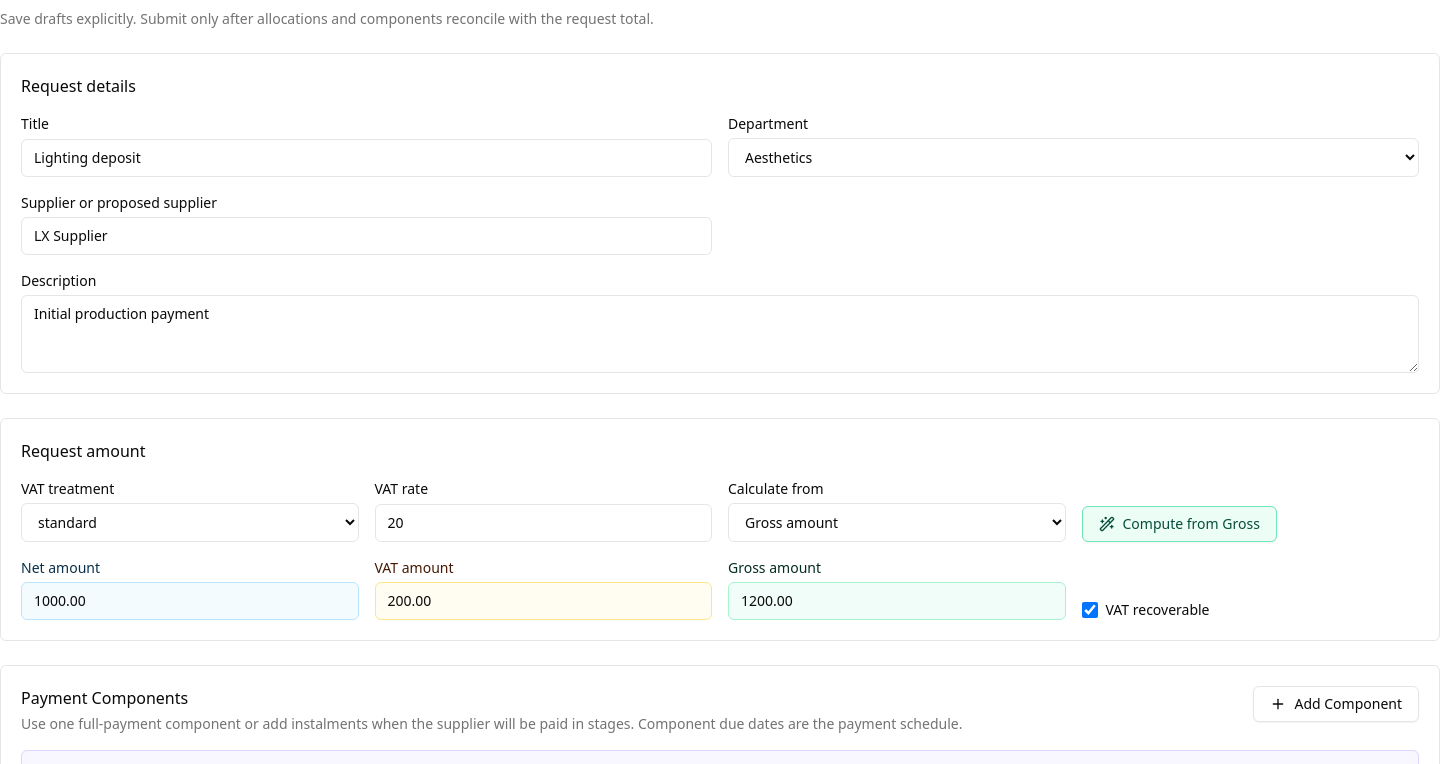
Test case: Stage 5 spending request panels › adds a third component with an instalment name
What coordinates should you click on to do the following:
click the button "Add Component"
I would click on:
 (1336, 704)
Its box is x1=1253 y1=686 x2=1419 y2=722.
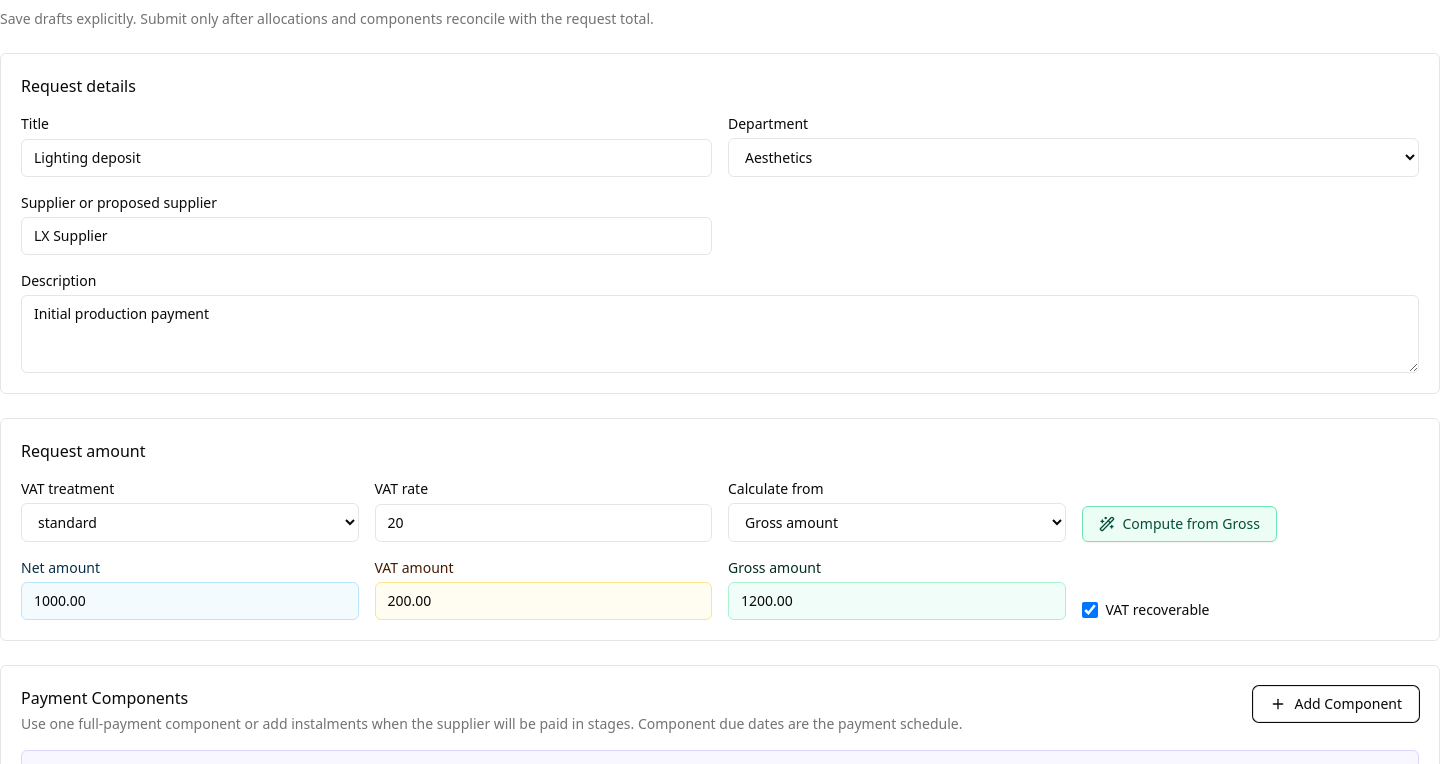
What coordinates should you click on to do the following:
click the button "Add Component"
I would click on:
 (1336, 704)
Its box is x1=1253 y1=686 x2=1419 y2=722.
(page scrolled)
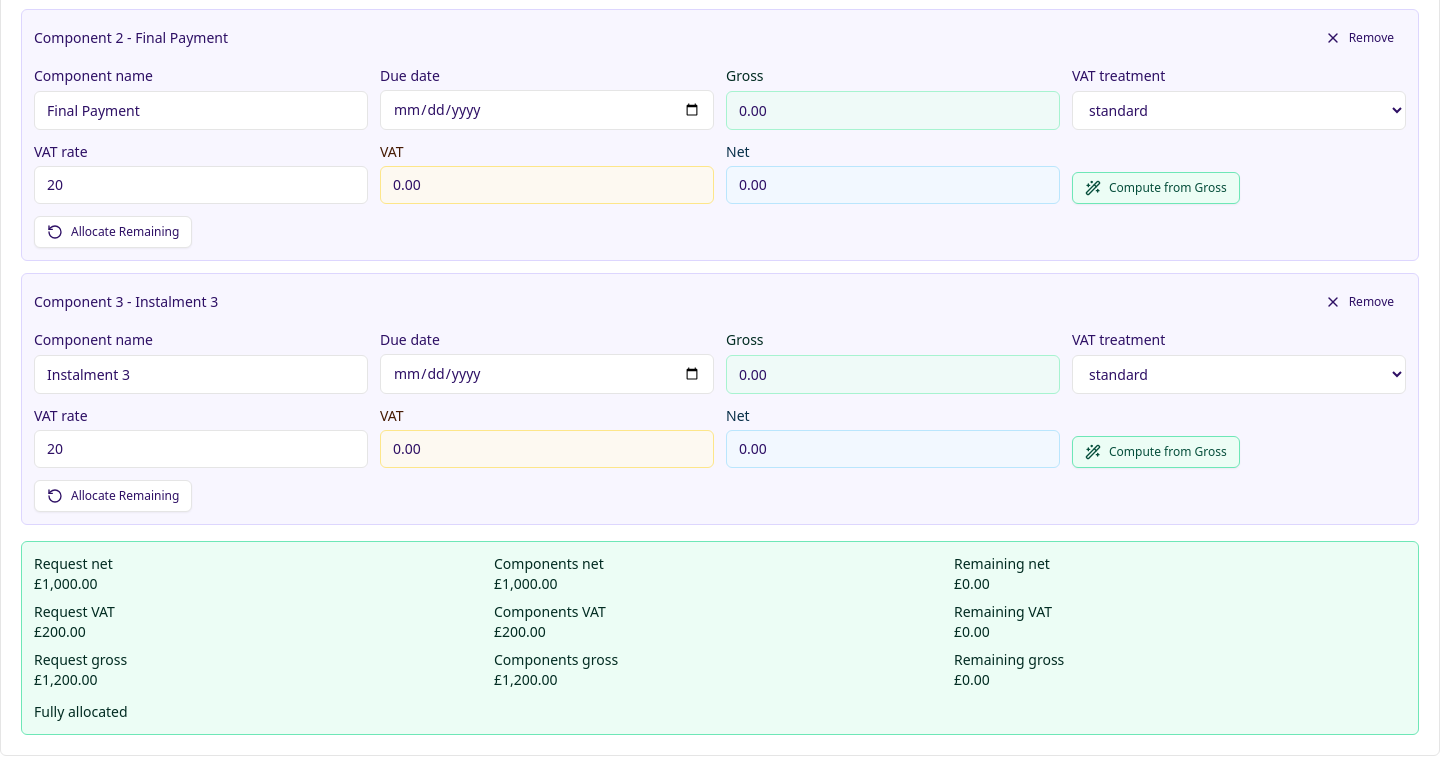
Result: the field showing "Instalment 3" below "- Instalment 3" is shown at x1=34 y1=355 x2=368 y2=394
